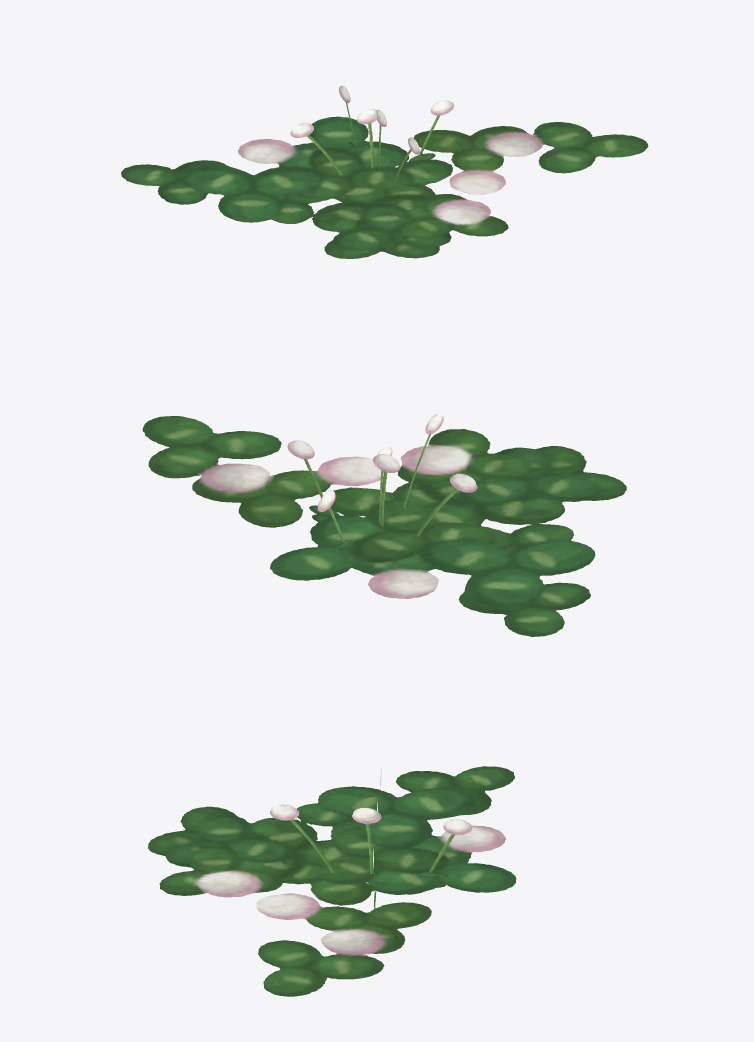
File: clover_patch.glb
3 views of the same model, one above another, from view 1: azimuth 30°, elevation 25°; view 2: azimuth 150°, elevation 25°; view 3: azimuth 270°, elevation 25° (orthographic). The views are drawn at different scales.
Visible parts, largest first — view 1: clover_patch; view 2: clover_patch; view 3: clover_patch.
Boxes of the visible parts, bbox=[...] form: clover_patch: bbox=[121, 85, 648, 258]; clover_patch: bbox=[142, 413, 626, 636]; clover_patch: bbox=[148, 766, 516, 996].
Bounding box in the file's own units: 0.4361 × 0.09 × 0.4361.
Materials: 1 (1 with a texture image).
